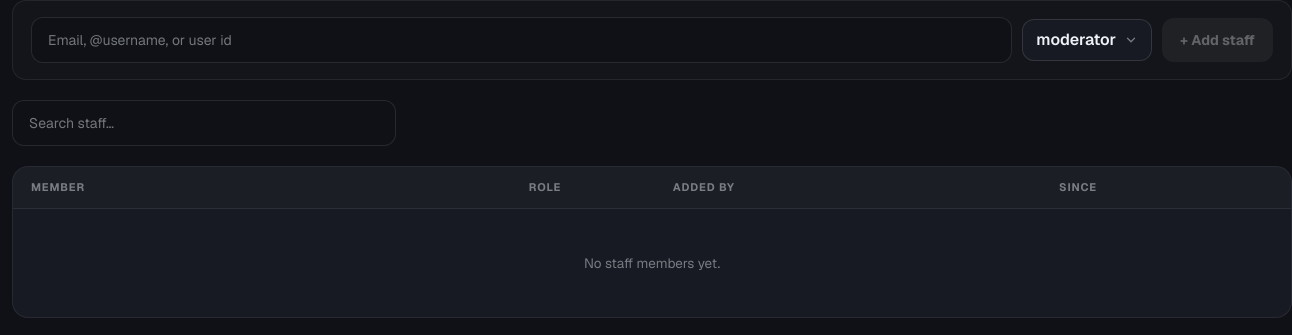
Scenario: StaffTab › add staff › closes the matches dropdown on Escape and returns focus to the Add staff button
This screenshot has width=1292, height=335.
expect the text "No staff members yet." is shown: met, box [584,254,720,272]
Step 1. Type "bob" into the field named "Email, username, or user id of the user to add as staff" → (522, 40), box [31,17,1012,63]
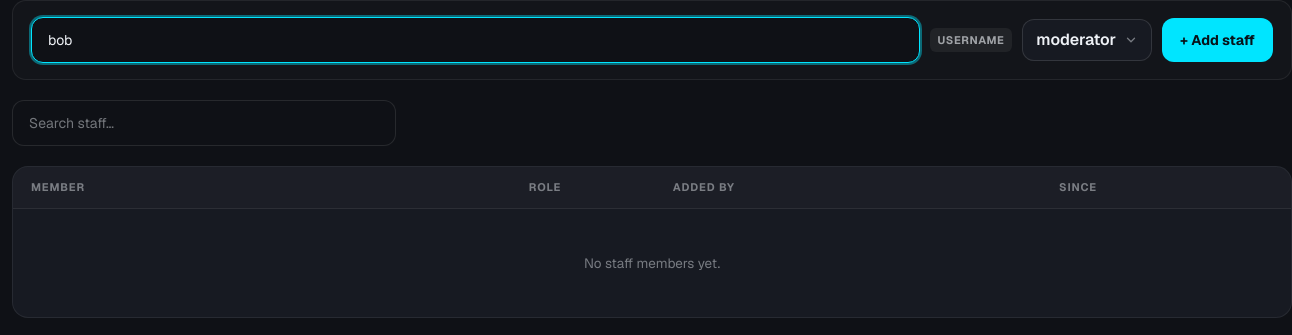
Step 2. Click the button "+ Add staff" → (1218, 40), box [1162,18,1273,62]
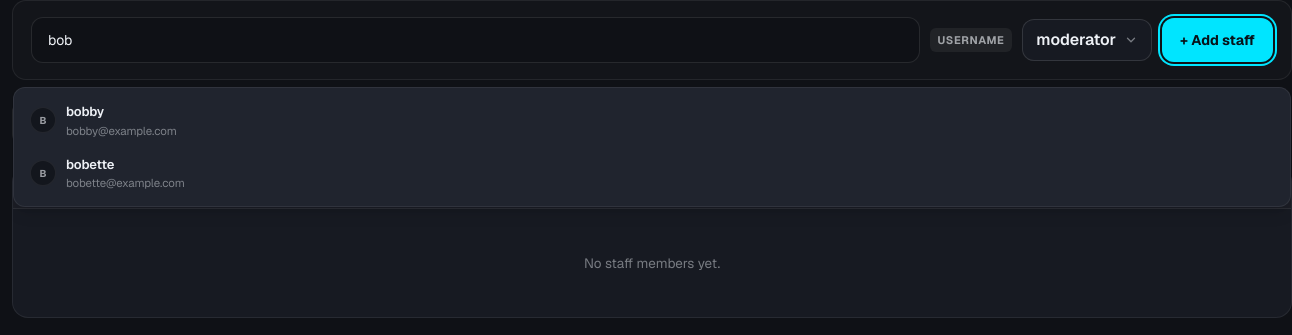
expect the list is shown: met, box [13,87,1291,206]
Step 3. Press Escape
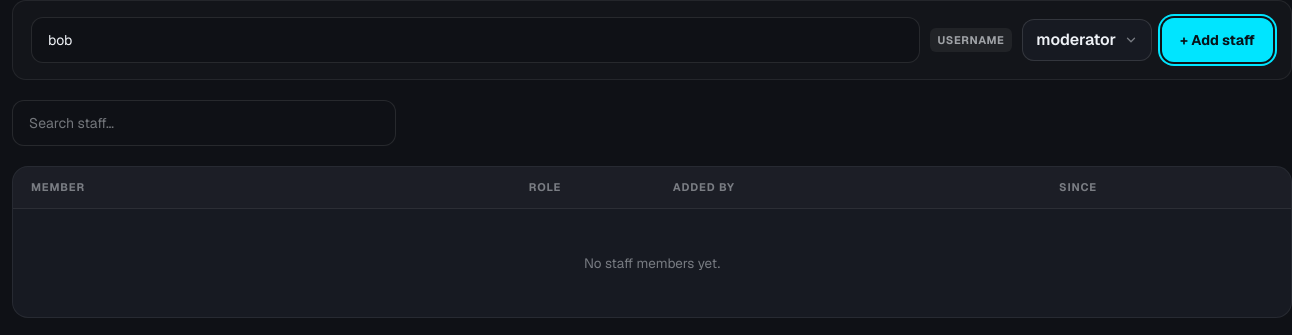
expect the list is gone: met
